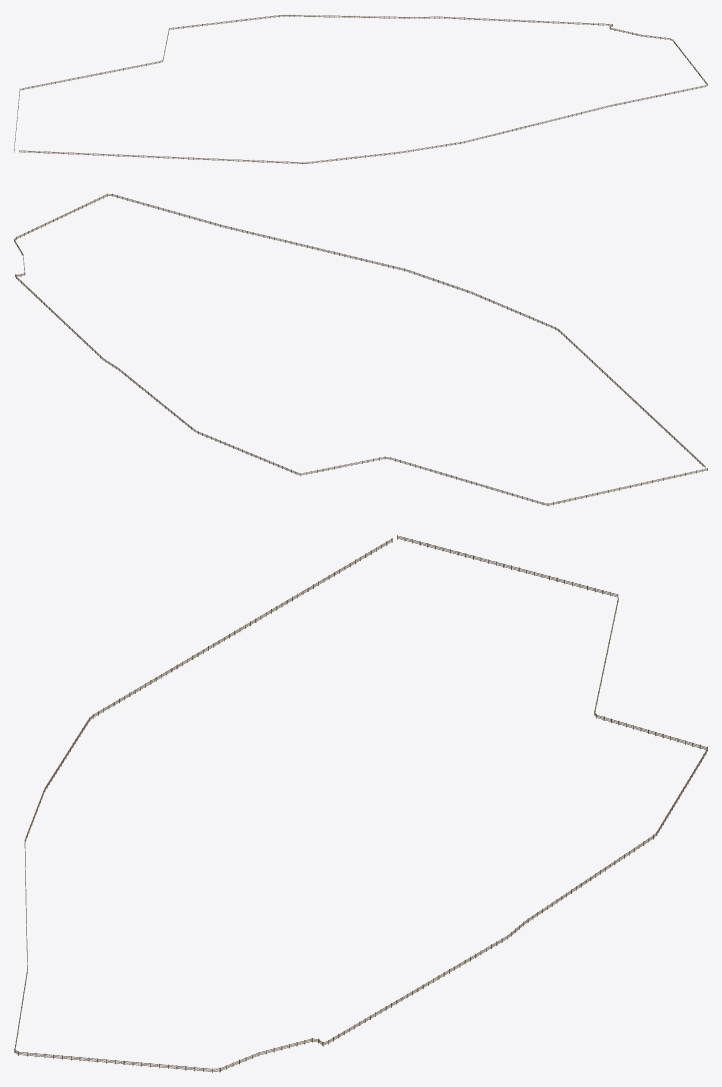
The model's file is border_00032.glb.
3 views of the same model, one above another, from view 1: azimuth 30°, elevation 25°; view 2: azimuth 150°, elevation 25°; view 3: azimuth 270°, elevation 25° (orthographic). The views are drawn at different scales.
Visible parts, largest first — view 1: Fence rails, Fence posts; view 2: Fence rails, Fence posts; view 3: Fence rails, Fence posts.
Boxes of the visible parts, x1,y1,x2,y2 form: Fence rails: [14, 15, 707, 163]; Fence posts: [14, 14, 707, 164]; Fence rails: [14, 194, 707, 505]; Fence posts: [14, 193, 707, 506]; Fence rails: [14, 536, 707, 1071]; Fence posts: [14, 535, 707, 1072].
Size of the model in its own units: 302 by 1.21 by 166.
